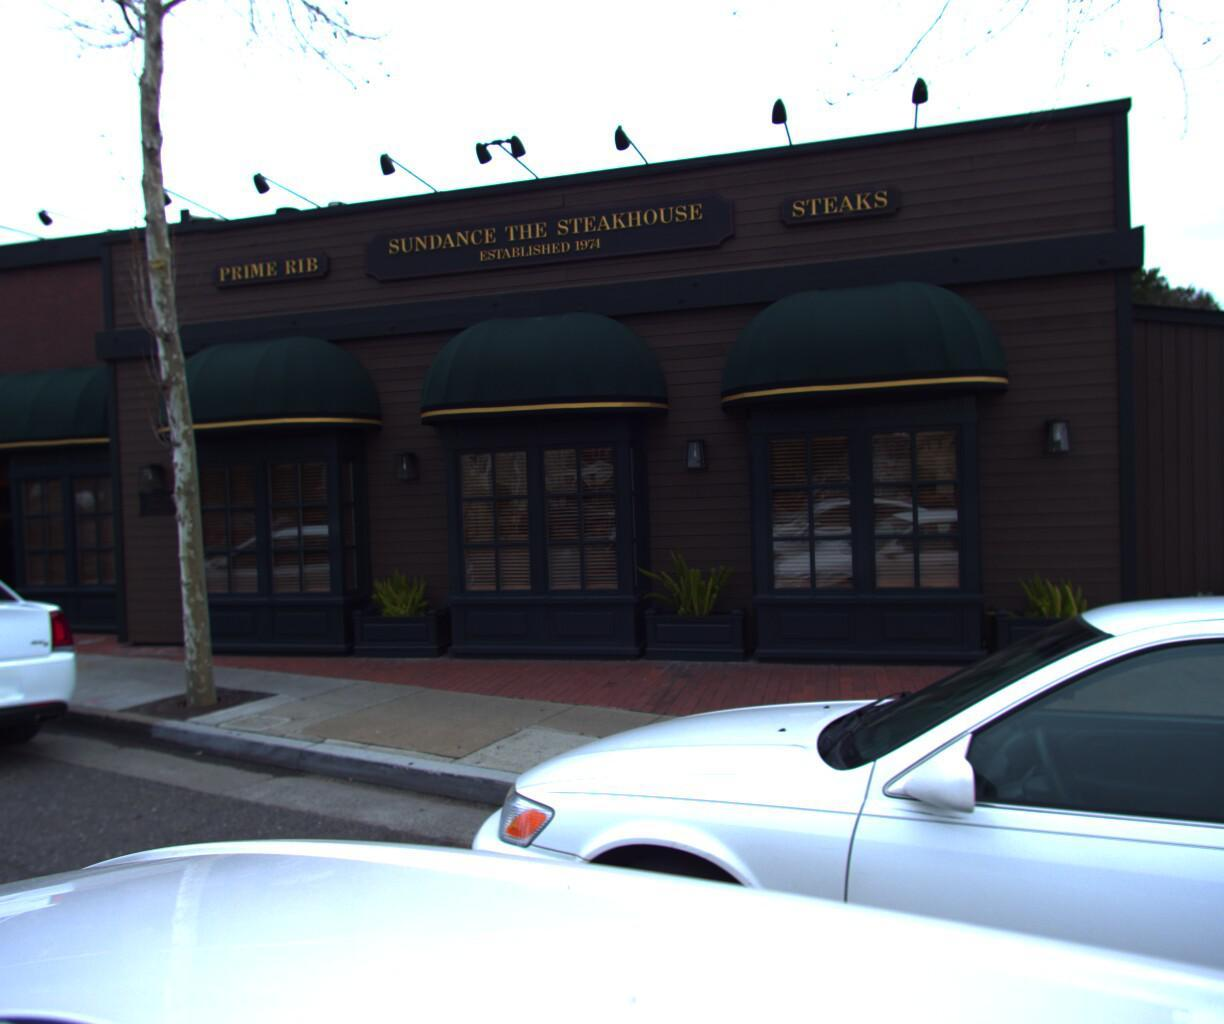car: (360, 550, 1224, 1024), (0, 531, 112, 837)
